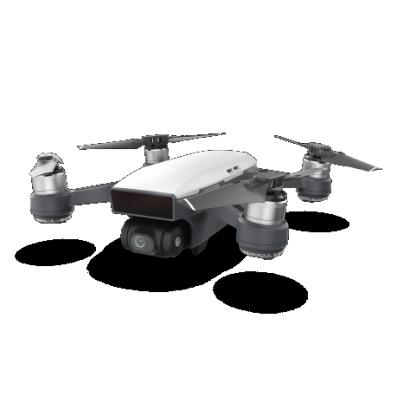drone: (21, 130, 386, 257)
